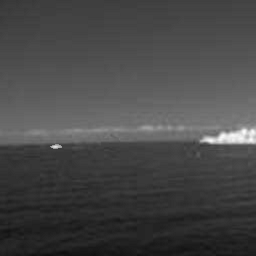Target: (49, 143, 62, 150)
